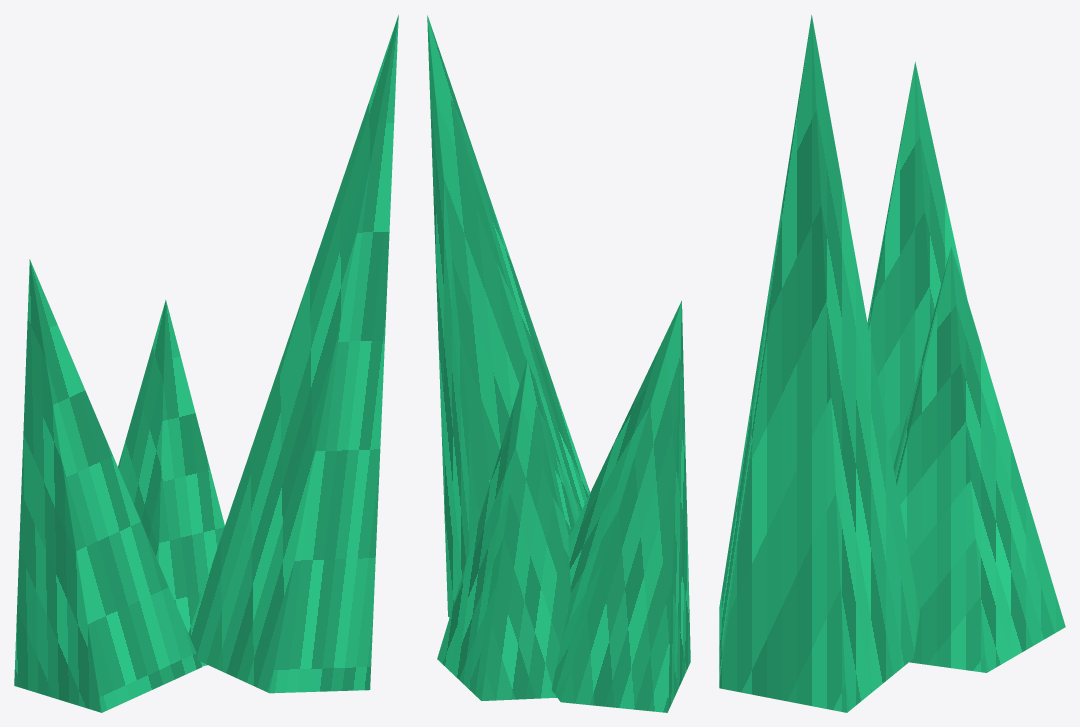
Rendered from crystal_48.glb.
3 renders of one model, left to right at view 1: azimuth 30°, elevation 25°; view 2: azimuth 150°, elevation 25°; view 3: azimuth 270°, elevation 25°, orthographic. The views are drawn at different scales.
Visible parts, largest first — view 1: Jade.002, Jade, Jade.001; view 2: Jade, Jade.002, Jade.001; view 3: Jade.002, Jade.001, Jade.
Boxes of the visible parts, box(x1,y1,x2,y2) form: Jade.002: box(188, 15, 398, 693); Jade: box(14, 259, 202, 712); Jade.001: box(118, 300, 224, 666); Jade: box(551, 300, 690, 712); Jade.002: box(427, 15, 590, 617); Jade.001: box(437, 359, 575, 700); Jade.002: box(719, 15, 919, 712); Jade.001: box(893, 247, 1065, 672); Jade: box(867, 62, 967, 466).
Size of the model in its own units: 0.8133 by 1.53 by 0.6667.
1 material, 1 textured.
